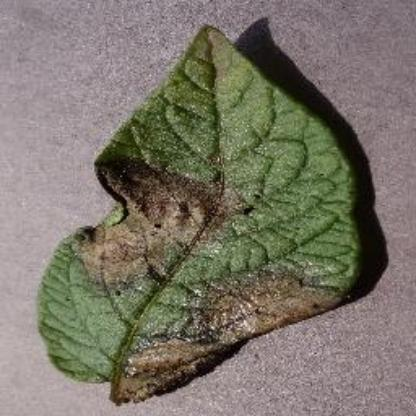Late-Blight: (35, 24, 364, 406)
